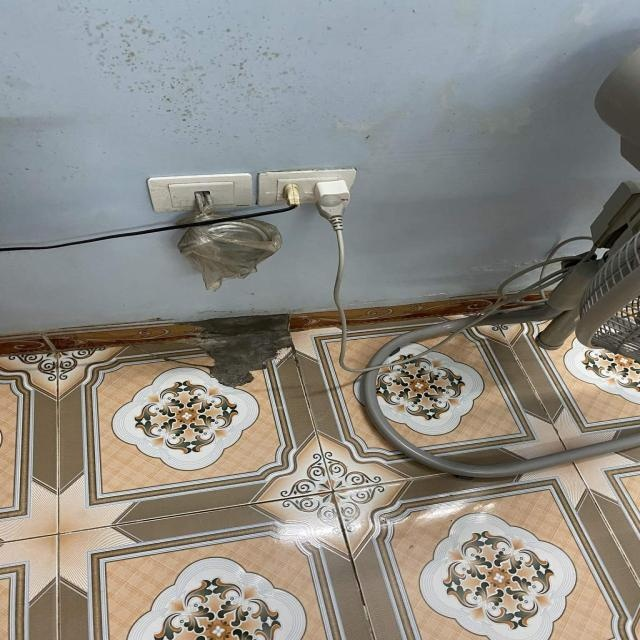outlet: (146, 172, 253, 213), (257, 168, 357, 207)
